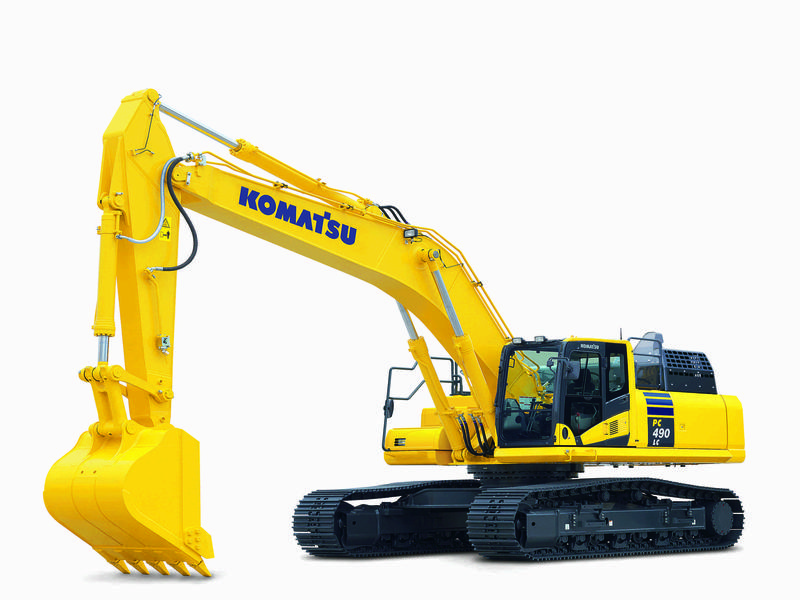shovel: (42, 86, 757, 583)
